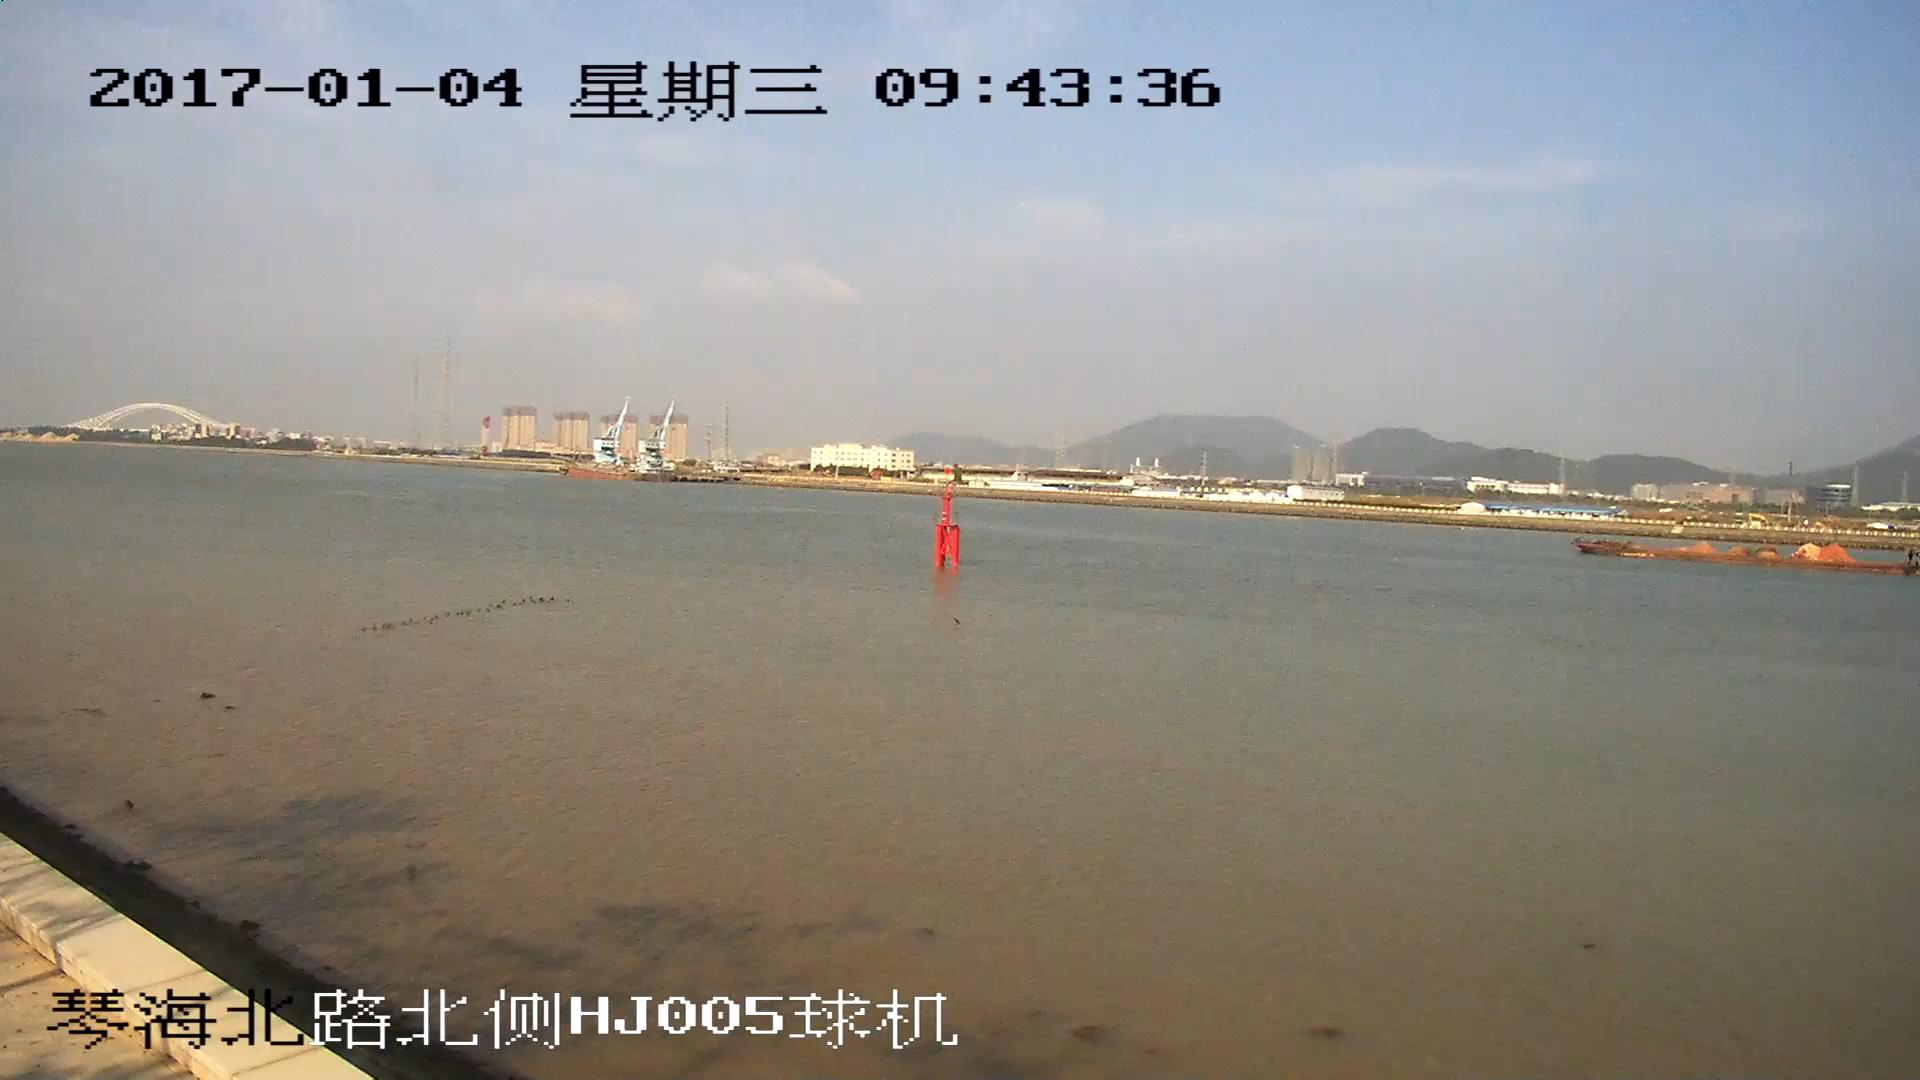ore carrier: (1578, 540, 1920, 577)
